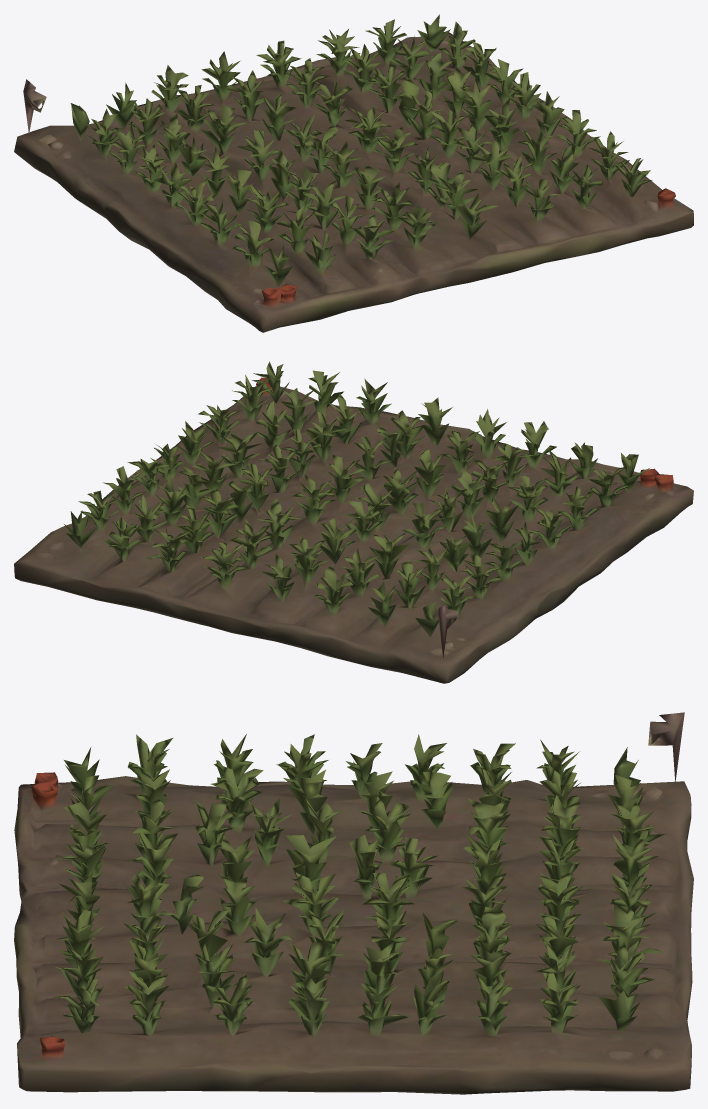
The model's file is journey_crop_field.glb.
The picture shows the model from 3 angles, top to bottom: view 1: azimuth 30°, elevation 25°; view 2: azimuth 150°, elevation 25°; view 3: azimuth 270°, elevation 25°; orthographic projection. The views are drawn at different scales.
Parts seen in each view (by area): view 1: tripo_node_e1b1722d-a95c-495f-a7fa-8c07b4232ac2; view 2: tripo_node_e1b1722d-a95c-495f-a7fa-8c07b4232ac2; view 3: tripo_node_e1b1722d-a95c-495f-a7fa-8c07b4232ac2.
Boxes of the visible parts, x1,y1,x2,y2 form: tripo_node_e1b1722d-a95c-495f-a7fa-8c07b4232ac2: (14, 14, 693, 332); tripo_node_e1b1722d-a95c-495f-a7fa-8c07b4232ac2: (14, 361, 693, 683); tripo_node_e1b1722d-a95c-495f-a7fa-8c07b4232ac2: (14, 712, 693, 1094).
Bounding box in the file's own units: 1 × 0.1682 × 0.9812.
1 material, 1 textured.
